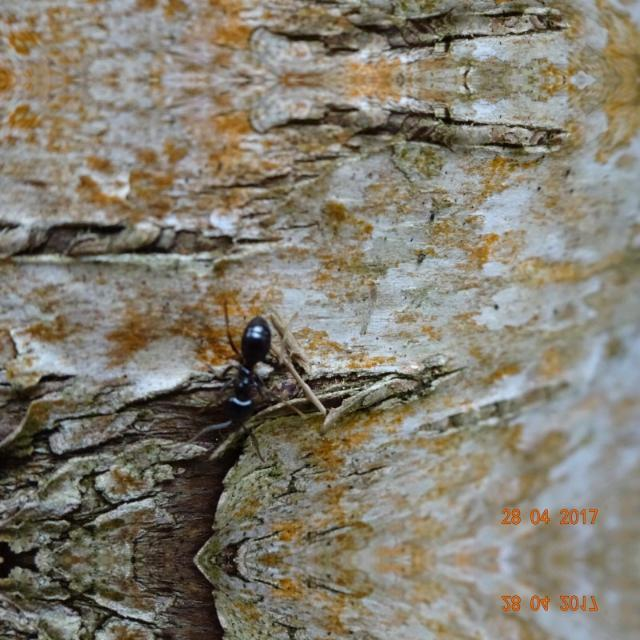Lasius: (194, 290, 296, 452)
